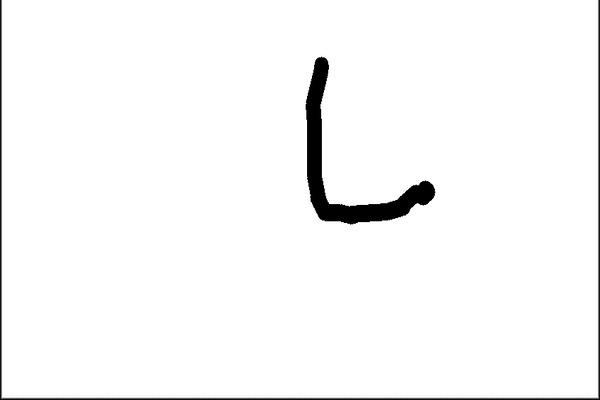L: (294, 49, 439, 227)
